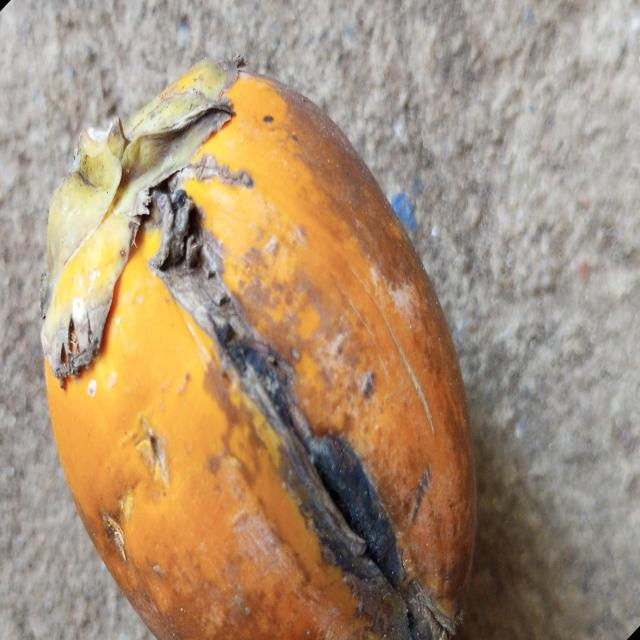damaged: (41, 57, 476, 640)
